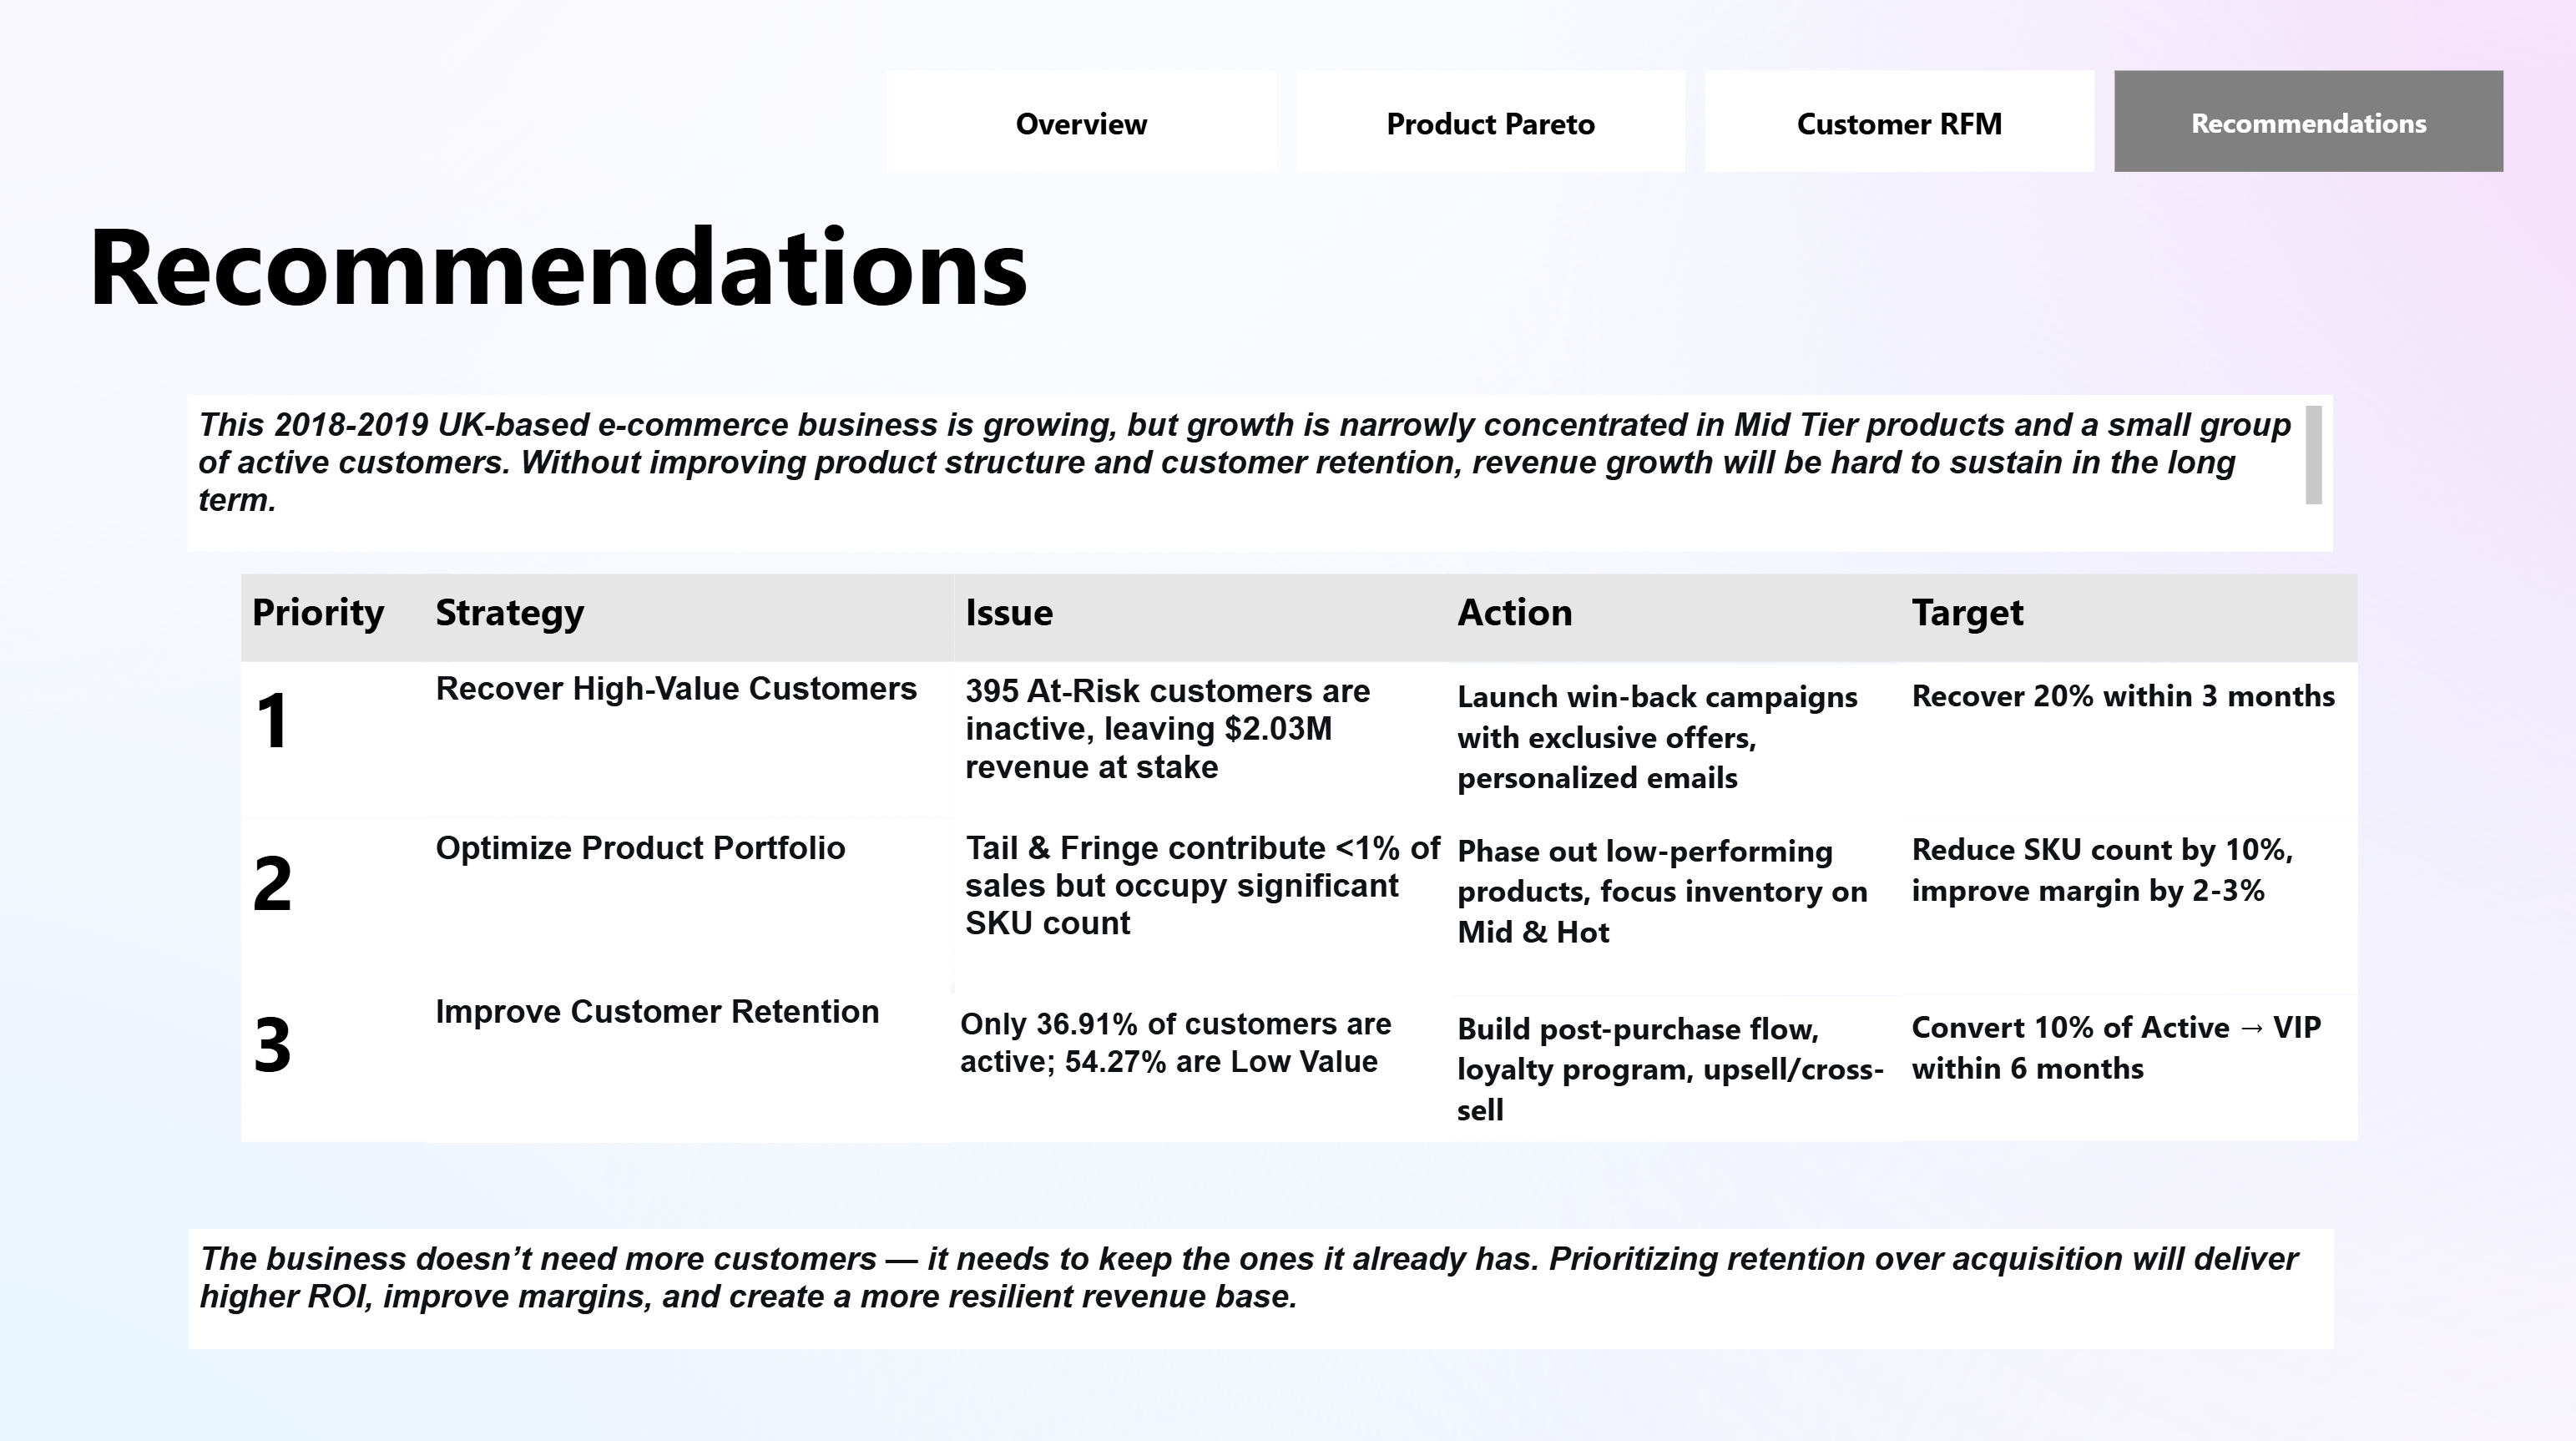

The dashboard page shown, as its layout file describes it:
{"tool":"powerbi","page":{"name":"Recommendations","canvas":[1280,720],"ordinal":3},"visuals":[{"type":"textbox","box":[98,200,1059,77],"z":0},{"type":"textbox","box":[43,93,496,90],"z":1000},{"type":"textbox","box":[99,612,1059,59],"z":2000},{"type":"textbox","box":[216,331,261,78],"z":3000},{"type":"textbox","box":[216,409,261,81],"z":4000},{"type":"textbox","box":[216,490,259,79],"z":5000},{"type":"textbox","box":[477,332,244,77],"z":6000},{"type":"textbox","box":[720,333,225,76],"z":7000},{"type":"textbox","box":[477,409,245,88],"z":8000},{"type":"textbox","box":[720,409,225,87],"z":9000},{"type":"textbox","box":[475,496,246,73],"z":10000},{"type":"textbox","box":[720,497,225,72],"z":11000},{"type":"textbox","box":[125,329,91,80],"z":12000},{"type":"textbox","box":[125,409,91,81],"z":13000},{"type":"textbox","box":[125,489,91,80],"z":14000},{"type":"textbox","box":[125,289,103,43],"z":15000},{"type":"textbox","box":[216,289,261,43],"z":16000},{"type":"textbox","box":[477,289,244,43],"z":17000},{"type":"textbox","box":[720,289,225,43],"z":18000},{"type":"textbox","box":[944.5,332.5,225,76],"z":19000},{"type":"textbox","box":[944.5,408.5,225,87],"z":20000},{"type":"textbox","box":[944.5,496.5,225,72],"z":21000},{"type":"textbox","box":[944.5,288.5,225,43],"z":22000},{"type":"pageNavigator","box":[444,40,800,50],"z":23000}]}

Visuals, with their boxes in screenshot pixels (x1, y1, x2, y2), scaled from the page's 1280x720 canvas onto the 2576x1441 screenshot:
textbox: l=197, t=400, r=2328, b=554
textbox: l=87, t=186, r=1084, b=367
textbox: l=200, t=1225, r=2331, b=1343
textbox: l=435, t=662, r=960, b=818
textbox: l=435, t=818, r=960, b=981
textbox: l=435, t=981, r=956, b=1139
textbox: l=960, t=665, r=1451, b=818
textbox: l=1449, t=666, r=1902, b=818
textbox: l=960, t=818, r=1453, b=994
textbox: l=1449, t=818, r=1902, b=993
textbox: l=956, t=993, r=1451, b=1139
textbox: l=1449, t=994, r=1902, b=1139
textbox: l=251, t=659, r=435, b=818
textbox: l=251, t=818, r=435, b=981
textbox: l=251, t=978, r=435, b=1139
textbox: l=251, t=579, r=459, b=665
textbox: l=435, t=579, r=960, b=665
textbox: l=960, t=579, r=1451, b=665
textbox: l=1449, t=579, r=1902, b=665
textbox: l=1901, t=665, r=2354, b=817
textbox: l=1901, t=817, r=2354, b=992
textbox: l=1901, t=994, r=2354, b=1138
textbox: l=1901, t=578, r=2354, b=664
pageNavigator: l=893, t=80, r=2503, b=180
